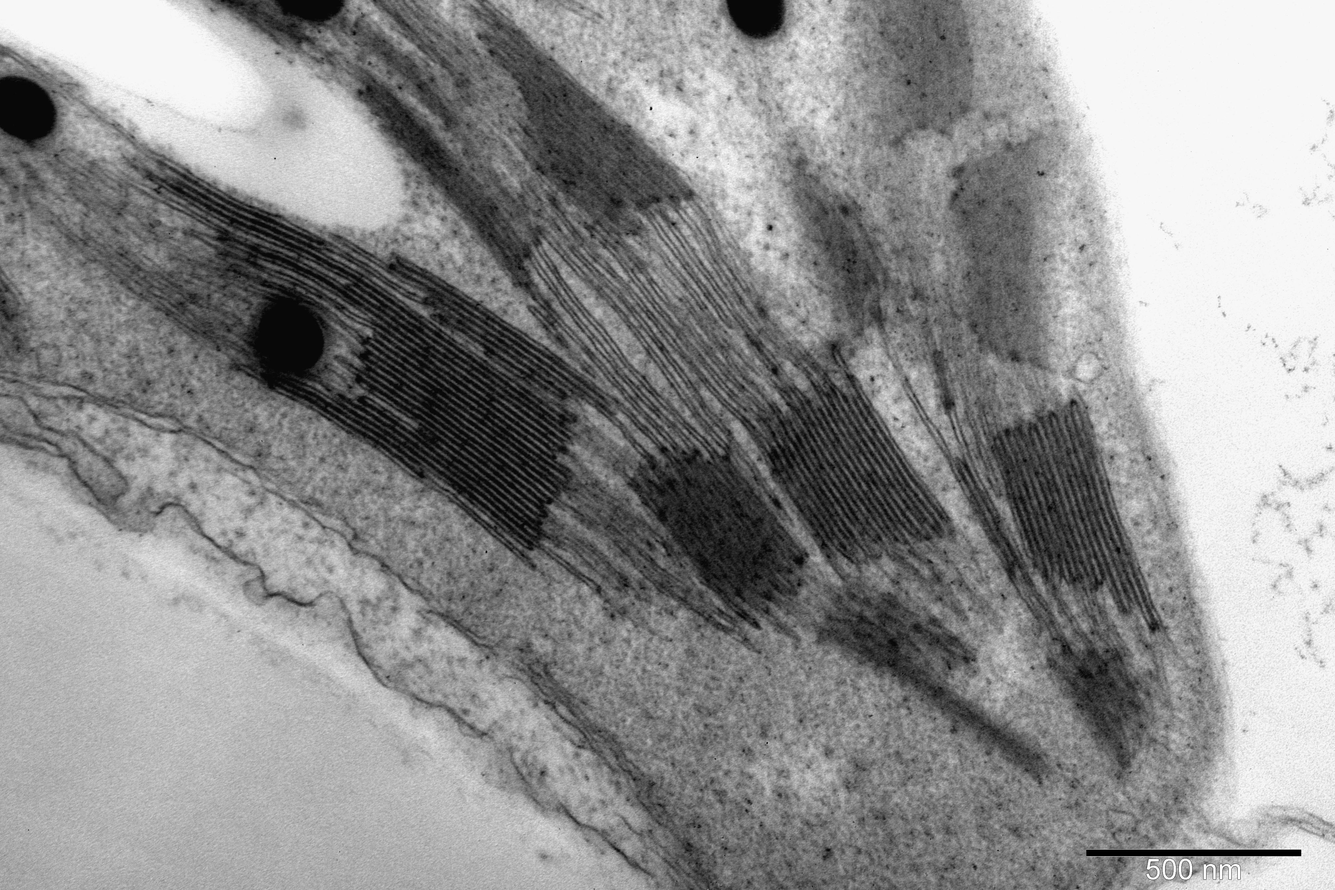granum: (264, 274, 580, 554), (478, 15, 697, 239), (385, 253, 622, 421), (982, 402, 1153, 615), (354, 75, 533, 277), (757, 391, 950, 567), (624, 448, 806, 614), (949, 135, 1062, 369), (837, 0, 977, 155), (147, 153, 329, 262), (789, 185, 897, 334), (951, 457, 1021, 572), (374, 0, 472, 66)
